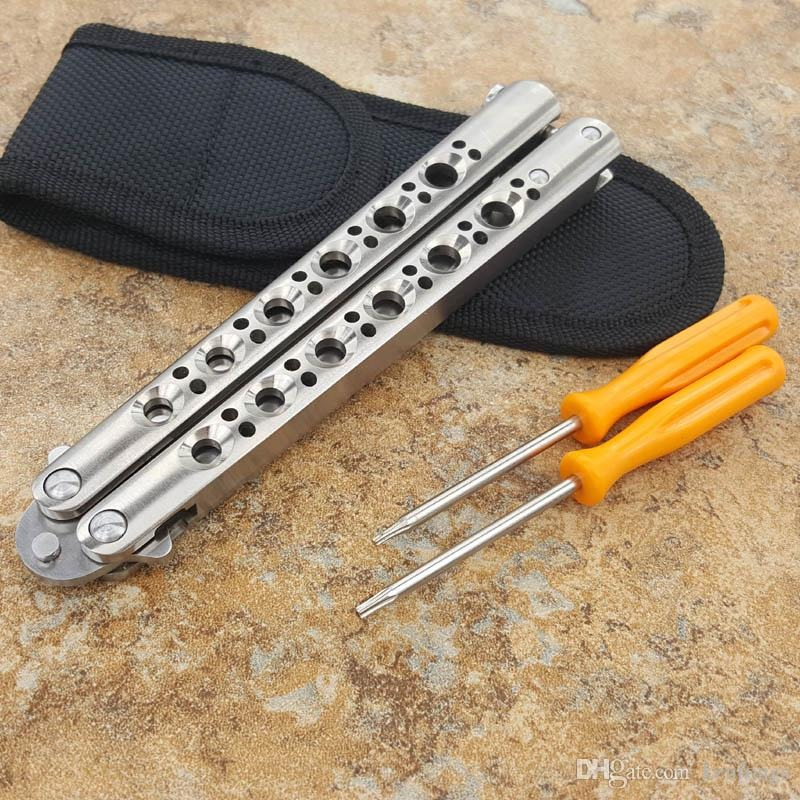knife: (18, 69, 606, 577)
screwdriver: (356, 330, 782, 651)
